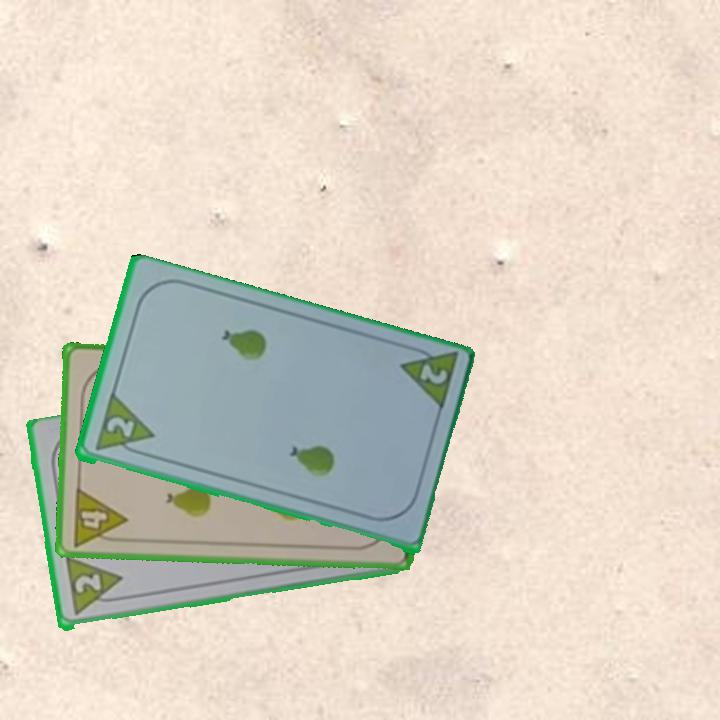2p: (90, 392, 156, 461), (415, 360, 450, 388), (70, 571, 104, 597)
4p: (68, 484, 129, 549)
